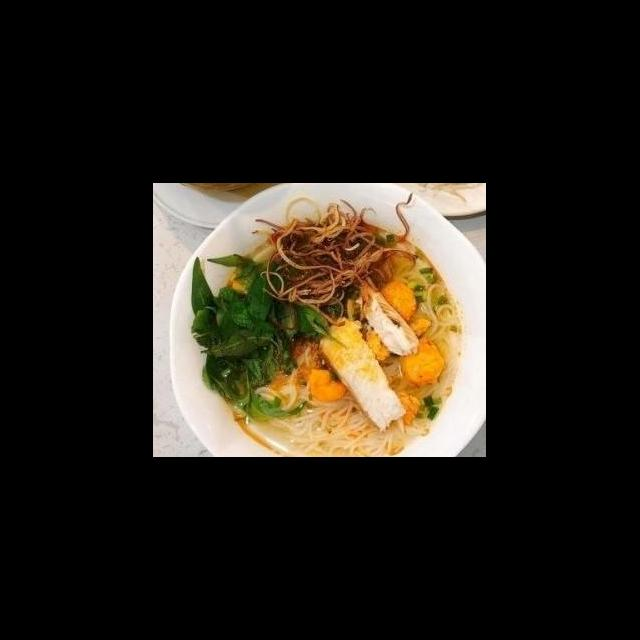bun: (232, 397, 428, 454), (416, 270, 468, 345)
bun ca: (173, 201, 486, 456)
ca: (314, 314, 409, 433), (358, 286, 424, 360)
rau ram: (184, 252, 314, 423), (284, 300, 354, 353)
tom: (399, 334, 446, 388), (378, 280, 422, 327), (308, 365, 350, 404)
